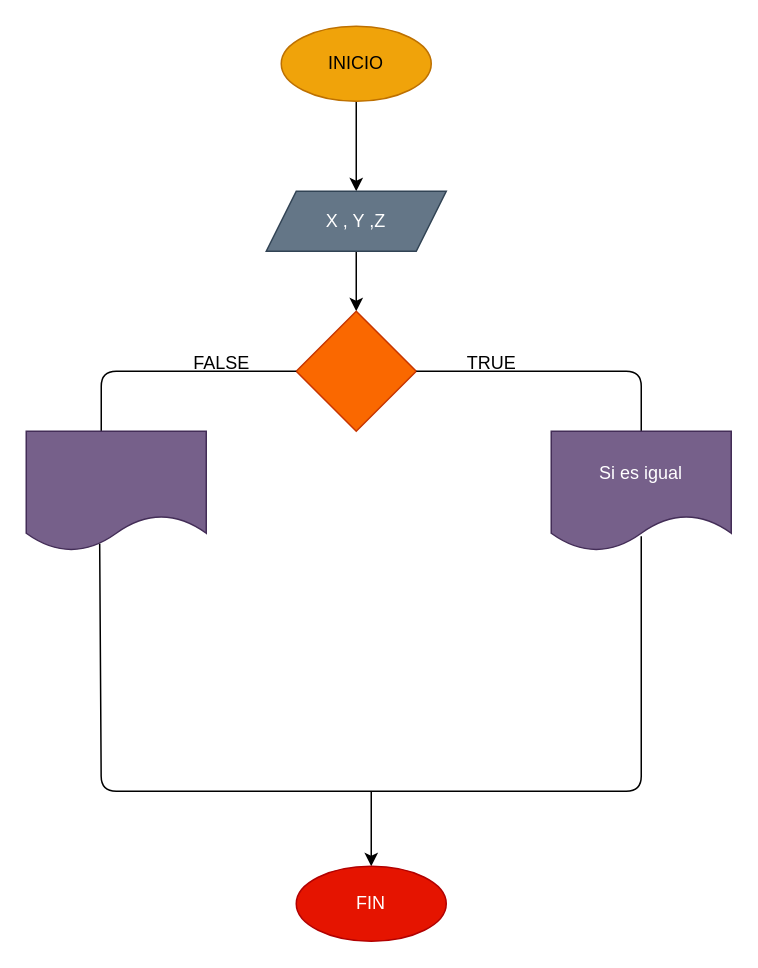
Image size: 758x968. Some labels were removed from this diagram. The box of each missing label's shape, as (x1, y1, x2, y2) in pixels:
No son iguales: (25, 430, 206, 551)
X+Y=Z: (295, 310, 416, 431)
